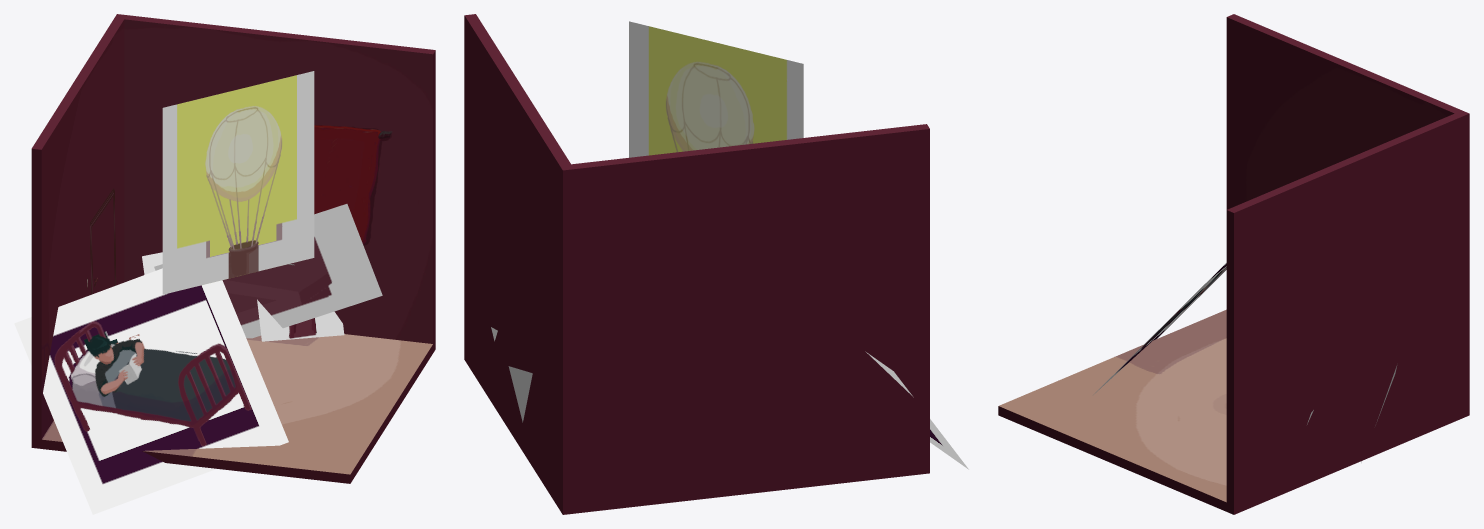
Rendered from day.dae.
3 views of the same model, side by side, from view 1: azimuth 30°, elevation 25°; view 2: azimuth 150°, elevation 25°; view 3: azimuth 270°, elevation 25° (orthographic). The views are drawn at different scales.
Visible parts, largest first — view 1: wallR, bed, light, wallL, floor, outside, desk, desk-leg; view 2: outside, light, bed, desk-leg.1; view 3: outside, wallL, floor, bed.
Part boxes in pixels (x1,y1,x2,y2): wallR: [124, 19, 432, 343]; bed: [14, 268, 288, 514]; light: [162, 71, 314, 294]; wallL: [41, 20, 124, 438]; floor: [42, 334, 432, 474]; outside: [31, 14, 435, 483]; desk: [154, 204, 382, 338]; desk-leg: [257, 299, 344, 341]; outside: [464, 14, 929, 514]; light: [629, 21, 803, 157]; bed: [865, 351, 968, 469]; desk-leg.1: [508, 366, 532, 422]; outside: [998, 14, 1469, 514]; wallL: [1226, 17, 1454, 209]; floor: [999, 309, 1226, 502]; bed: [1093, 263, 1226, 394].
Size of the model in its own units: 453 by 379 by 453.
9 materials, 7 textured.
